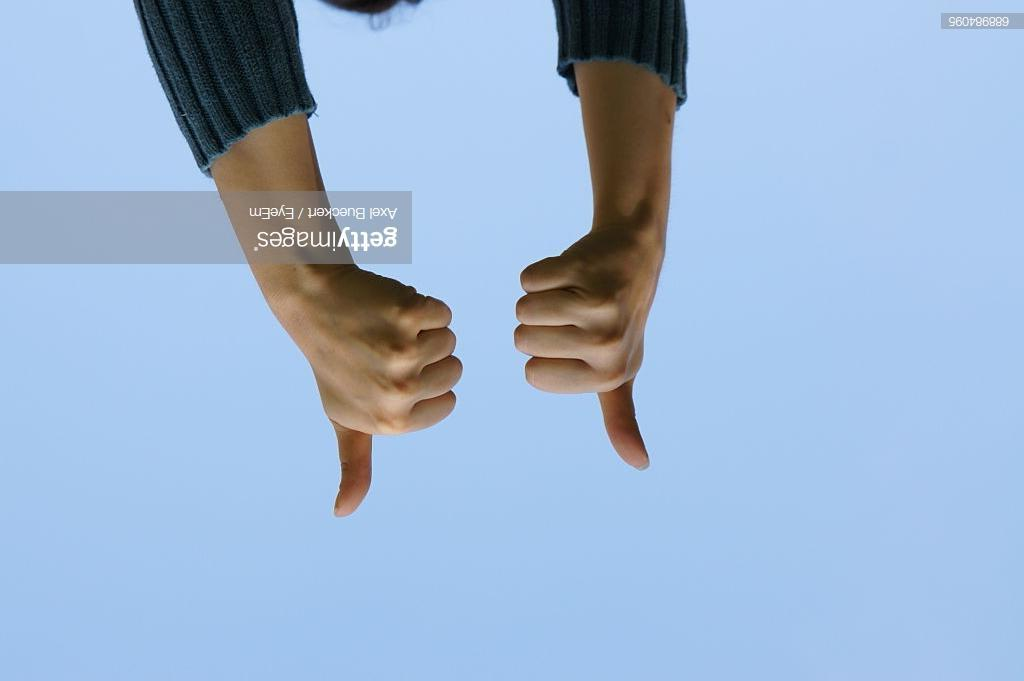thumbsdown: (328, 290, 463, 518), (513, 258, 651, 472)
